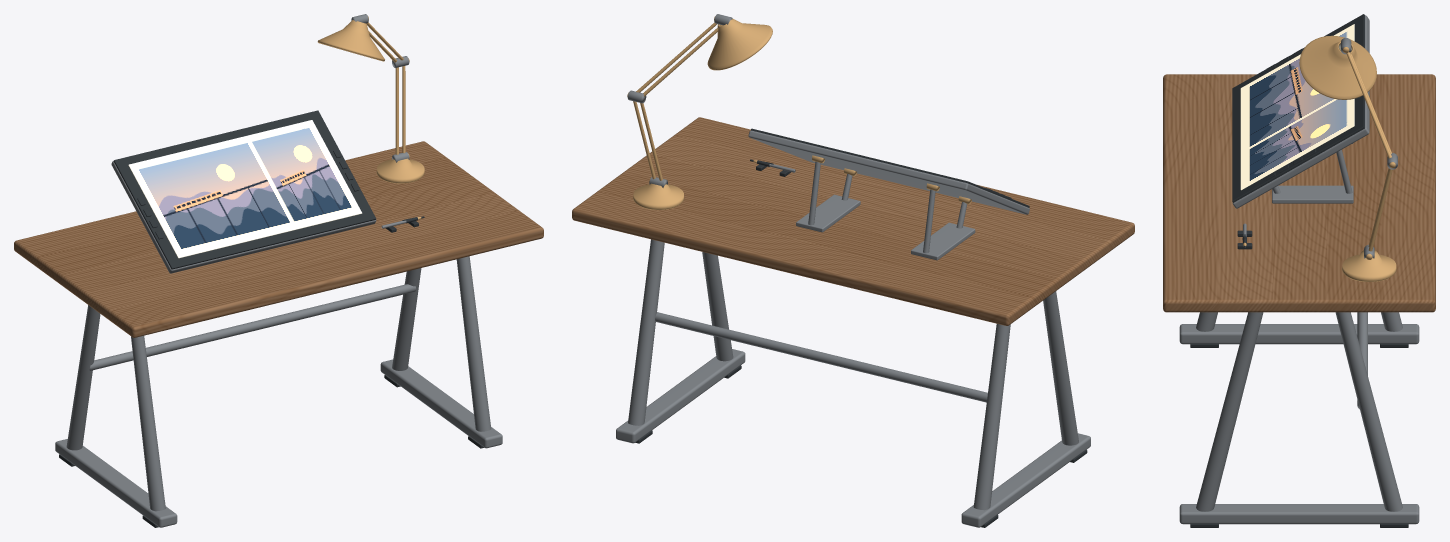
The model's file is webtoon-artisan-drafting-easel-lamp-v15.glb.
3 views of the same model, side by side, from view 1: azimuth 30°, elevation 25°; view 2: azimuth 150°, elevation 25°; view 3: azimuth 270°, elevation 25° (orthographic). The views are drawn at different scales.
Visible parts, largest first — view 1: QuarterSawnOakDesktop, BrushedAluminumAndBrass, PenDisplayStoryboard, GraphiteGripAndDiffuser; view 2: QuarterSawnOakDesktop, BrushedAluminumAndBrass, GraphiteGripAndDiffuser; view 3: QuarterSawnOakDesktop, BrushedAluminumAndBrass, PenDisplayStoryboard, GraphiteGripAndDiffuser.
Boxes of the visible parts, x1=… form: QuarterSawnOakDesktop: x1=14, y1=141, x2=543, y2=337; BrushedAluminumAndBrass: x1=55, y1=14, x2=502, y2=527; PenDisplayStoryboard: x1=128, y1=120, x2=362, y2=258; GraphiteGripAndDiffuser: x1=59, y1=110, x2=484, y2=527; QuarterSawnOakDesktop: x1=572, y1=117, x2=1134, y2=325; BrushedAluminumAndBrass: x1=616, y1=14, x2=1090, y2=527; GraphiteGripAndDiffuser: x1=635, y1=128, x2=1087, y2=527; QuarterSawnOakDesktop: x1=1163, y1=74, x2=1435, y2=312; BrushedAluminumAndBrass: x1=1179, y1=15, x2=1419, y2=524; PenDisplayStoryboard: x1=1240, y1=24, x2=1354, y2=190; GraphiteGripAndDiffuser: x1=1190, y1=14, x2=1408, y2=527.
Size of the model in its own units: 1.62 by 1.49 by 0.82.
4 materials, 2 textured.
